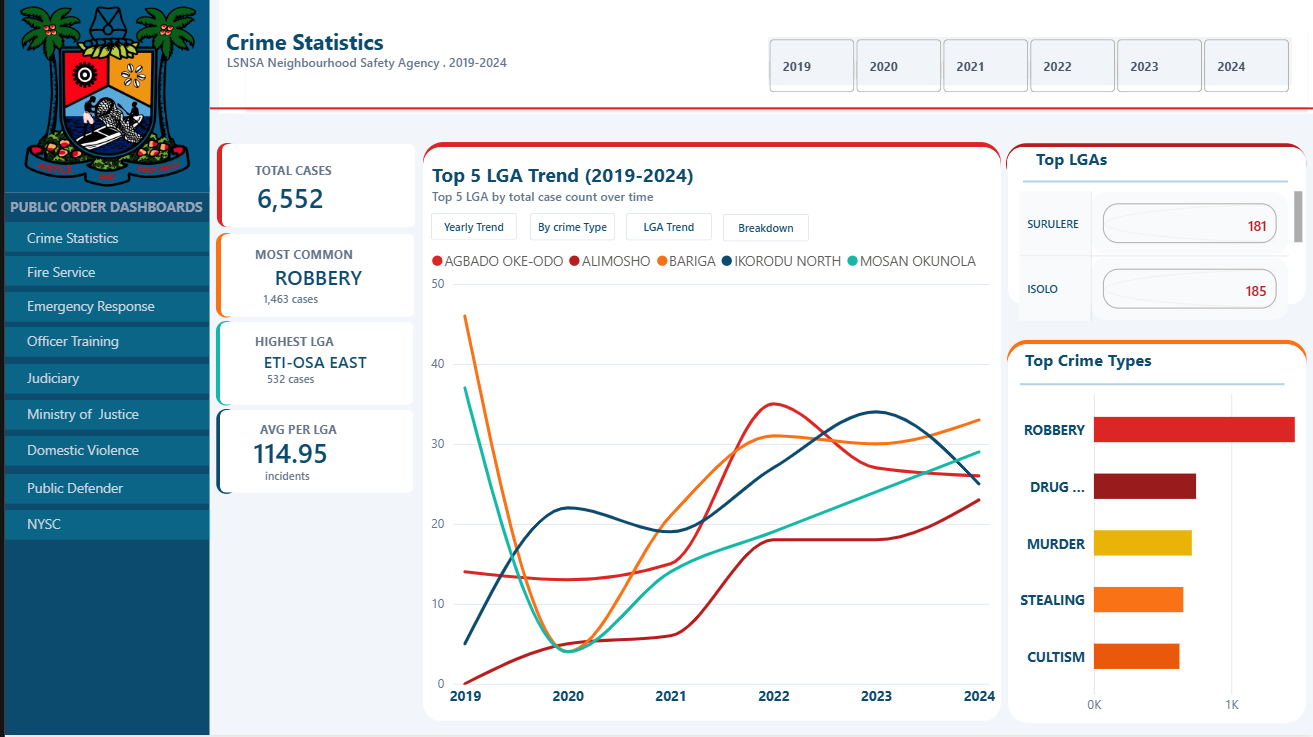

The dashboard page shown, as its layout file describes it:
{"tool":"powerbi","page":{"name":"Crime Statistics ","canvas":[1280,720],"ordinal":0},"visuals":[{"type":"shape","box":[408.7,100.7,565.2,118.3],"z":0},{"type":"shape","box":[0,183.1,200,536.9],"z":1000},{"type":"shape","box":[0,499.6,200.9,29.3],"z":2000},{"type":"shape","box":[0,464,200,29.3],"z":3000},{"type":"shape","box":[0,427.6,200,29.3],"z":4000},{"type":"shape","box":[0,392,200,29.3],"z":5000},{"type":"shape","box":[0,356.4,200,29.3],"z":6000},{"type":"shape","box":[0,320.9,200,29.3],"z":7000},{"type":"shape","box":[0,286.2,200,29.3],"z":8000},{"type":"shape","box":[0,251.6,200,29.3],"z":9000},{"type":"shape","box":[0,217.8,200,29.3],"z":10000},{"type":"textbox","box":[211.8,0,373,70.6],"z":11000},{"type":"shape","box":[95.8,400.9,241.5,83.1],"z":12000},{"type":"shape","box":[210.7,401.8,189.3,80.9],"z":13000},{"type":"shape","box":[96,314.7,240.9,82.7],"z":14000},{"type":"shape","box":[210.7,315.6,189.3,80.9],"z":15000},{"type":"shape","box":[96,228.4,240.9,82.7],"z":16000},{"type":"shape","box":[211.6,229.3,189.3,80.9],"z":17000},{"type":"shape","box":[96.9,141.2,240.8,82.4],"z":18000},{"type":"shape","box":[211.8,142.1,189.2,81.5],"z":19000},{"type":"shape","box":[979.6,308.4,293.3,90.7],"z":20000},{"type":"shape","box":[209.2,0,1071,112.2],"z":21000},{"type":"shape","box":[0,0,200,189.3],"z":22000},{"type":"shape","box":[740.6,31.4,524.3,59.3],"z":23000},{"type":"advancedSlicerVisual","fields":{"Values":["YearTable.Year"]},"box":[727.5,31.3,552.5,68.4],"z":24000},{"type":"shape","box":[979.6,337.8,293.3,371.6],"z":25000},{"type":"shape","box":[408.7,144.7,565.2,561.3],"z":26000},{"type":"shape","box":[979.1,111,293.7,99.1],"z":27000},{"type":"shape","box":[979.3,145,292.9,154.7],"z":28000},{"type":"textbox","box":[239.6,153.5,158.4,36.2],"z":29000},{"type":"card","fields":{"Values":["Neighbourhood Safety Data.Total Cases"]},"box":[239.6,168.2,79.2,52.8],"z":30000},{"type":"card","fields":{"Values":["Neighbourhood Safety Data.Most Common Crime"]},"box":[223.1,253.3,167.1,40],"z":31000},{"type":"textbox","box":[239.6,235.7,158.4,33.2],"z":32000},{"type":"textbox","box":[239.6,320.7,104.6,36.2],"z":33000},{"type":"card","fields":{"Values":["Neighbourhood Safety Data.Average Per LGA"]},"box":[223.5,421,111.2,45.4],"z":34000},{"type":"card","fields":{"Values":["Neighbourhood Safety Data.Highest LGA"]},"box":[208.9,337.3,188.5,39.7],"z":35000},{"type":"textbox","box":[239.6,406.8,94.9,36.2],"z":36000},{"type":"textbox","box":[249.6,451.6,85.1,30.6],"z":37000},{"type":"cardVisual","fields":{"Rows":["Neighbourhood Safety Data.LGA/LCDA"],"Data":["Sum(Neighbourhood Safety Data.Value)"]},"box":[986.7,183.1,287.1,137.8],"z":40000},{"type":"clusteredBarChart","fields":{"Category":["Neighbourhood Safety Data.Crime_Types"],"Y":["Neighbourhood Safety Data.Total Cases"]},"box":[980.4,377.8,292.4,326.2],"z":41000},{"type":"shape","box":[992.9,334.2,258.7,84.4],"z":42000},{"type":"shape","box":[995.4,131,259.1,94.9],"z":43000},{"type":"textbox","box":[992.9,337.8,287.1,33.8],"z":44000},{"type":"textbox","box":[1003.3,140.8,269.9,47.9],"z":45000},{"type":"textbox","box":[211.8,48,373,51.6],"z":46000},{"type":"textbox","box":[211.2,21.5,245.4,48.9],"z":53000},{"type":"textbox","box":[0,189.7,200.5,30.3],"z":54000},{"type":"textbox","box":[16.9,220.4,121.8,26.7],"z":55000},{"type":"textbox","box":[16.9,253.3,95.1,27.6],"z":56000},{"type":"textbox","box":[16.9,286.2,149.3,29.3],"z":57000},{"type":"textbox","box":[16.9,320.9,121.8,29.3],"z":58000},{"type":"textbox","box":[16.9,356.4,95.1,29.3],"z":59000},{"type":"textbox","box":[16.9,392,138.7,29.3],"z":60000},{"type":"textbox","box":[16.9,427.6,138.7,29.3],"z":61000},{"type":"textbox","box":[16.9,464.9,121.8,28.4],"z":62000},{"type":"textbox","box":[16.9,499.6,121.8,29.3],"z":63000},{"type":"card","fields":{"Values":["Neighbourhood Safety Data.HHighest Crime Count"]},"box":[239.4,281.4,79.4,28.4],"z":64000},{"type":"card","fields":{"Values":["Neighbourhood Safety Data.Highest LGA Count"]},"box":[239.4,359.7,79.4,26.1],"z":65000},{"type":"lineChart","fields":{"Y":["Sum(Neighbourhood Safety Data.Value)"],"Category":["Neighbourhood Safety Data.Year"],"Series":["Neighbourhood Safety Data.LGA/LCDA"]},"box":[411.9,236,561.7,465.2],"z":70000},{"type":"textbox","box":[412.4,153.8,419.6,56],"z":71000},{"type":"textbox","box":[412.4,178.7,300.4,40],"z":72000},{"type":"shape","box":[200.9,61.3,1079.1,90.7],"z":76000},{"type":"shape","title":"v","box":[416.6,209.3,84.1,26.4],"z":77000},{"type":"shape","title":"v","box":[513.8,208.9,83.2,26.8],"z":78000},{"type":"shape","title":"v","box":[607.2,208.9,84.1,26.8],"z":79000},{"type":"shape","title":"v","box":[702.4,209.8,84.1,26.8],"z":80000},{"type":"image","box":[0,0,200.5,189.7],"z":81000}]}

Visuals, with their boxes on the page's 1280x720 design canvas (x1, y1, x2, y2). These are canvas units, not pixel positions in the 1313x737 screenshot, which may show the page scaled, cropped or inside an application window:
shape: box=[409, 101, 974, 219]
shape: box=[0, 183, 200, 720]
shape: box=[0, 500, 201, 529]
shape: box=[0, 464, 200, 493]
shape: box=[0, 428, 200, 457]
shape: box=[0, 392, 200, 421]
shape: box=[0, 356, 200, 386]
shape: box=[0, 321, 200, 350]
shape: box=[0, 286, 200, 316]
shape: box=[0, 252, 200, 281]
shape: box=[0, 218, 200, 247]
textbox: box=[212, 0, 585, 71]
shape: box=[96, 401, 337, 484]
shape: box=[211, 402, 400, 483]
shape: box=[96, 315, 337, 397]
shape: box=[211, 316, 400, 396]
shape: box=[96, 228, 337, 311]
shape: box=[212, 229, 401, 310]
shape: box=[97, 141, 338, 224]
shape: box=[212, 142, 401, 224]
shape: box=[980, 308, 1273, 399]
shape: box=[209, 0, 1280, 112]
shape: box=[0, 0, 200, 189]
shape: box=[741, 31, 1265, 91]
advancedSlicerVisual - YearTable.Year: box=[728, 31, 1280, 100]
shape: box=[980, 338, 1273, 709]
shape: box=[409, 145, 974, 706]
shape: box=[979, 111, 1273, 210]
shape: box=[979, 145, 1272, 300]
textbox: box=[240, 154, 398, 190]
card - Neighbourhood Safety Data.Total Cases: box=[240, 168, 319, 221]
card - Neighbourhood Safety Data.Most Common Crime: box=[223, 253, 390, 293]
textbox: box=[240, 236, 398, 269]
textbox: box=[240, 321, 344, 357]
card - Neighbourhood Safety Data.Average Per LGA: box=[224, 421, 335, 466]
card - Neighbourhood Safety Data.Highest LGA: box=[209, 337, 397, 377]
textbox: box=[240, 407, 334, 443]
textbox: box=[250, 452, 335, 482]
cardVisual - Neighbourhood Safety Data.LGA/LCDA x Sum(Neighbourhood Safety Data.Value): box=[987, 183, 1274, 321]
clusteredBarChart - Neighbourhood Safety Data.Crime_Types x Neighbourhood Safety Data.Total Cases: box=[980, 378, 1273, 704]
shape: box=[993, 334, 1252, 419]
shape: box=[995, 131, 1254, 226]
textbox: box=[993, 338, 1280, 372]
textbox: box=[1003, 141, 1273, 189]
textbox: box=[212, 48, 585, 100]
textbox: box=[211, 22, 457, 70]
textbox: box=[0, 190, 200, 220]
textbox: box=[17, 220, 139, 247]
textbox: box=[17, 253, 112, 281]
textbox: box=[17, 286, 166, 316]
textbox: box=[17, 321, 139, 350]
textbox: box=[17, 356, 112, 386]
textbox: box=[17, 392, 156, 421]
textbox: box=[17, 428, 156, 457]
textbox: box=[17, 465, 139, 493]
textbox: box=[17, 500, 139, 529]
card - Neighbourhood Safety Data.HHighest Crime Count: box=[239, 281, 319, 310]
card - Neighbourhood Safety Data.Highest LGA Count: box=[239, 360, 319, 386]
lineChart - Sum(Neighbourhood Safety Data.Value) x Neighbourhood Safety Data.Year: box=[412, 236, 974, 701]
textbox: box=[412, 154, 832, 210]
textbox: box=[412, 179, 713, 219]
shape: box=[201, 61, 1280, 152]
"v" shape: box=[417, 209, 501, 236]
"v" shape: box=[514, 209, 597, 236]
"v" shape: box=[607, 209, 691, 236]
"v" shape: box=[702, 210, 786, 237]
image: box=[0, 0, 200, 190]
